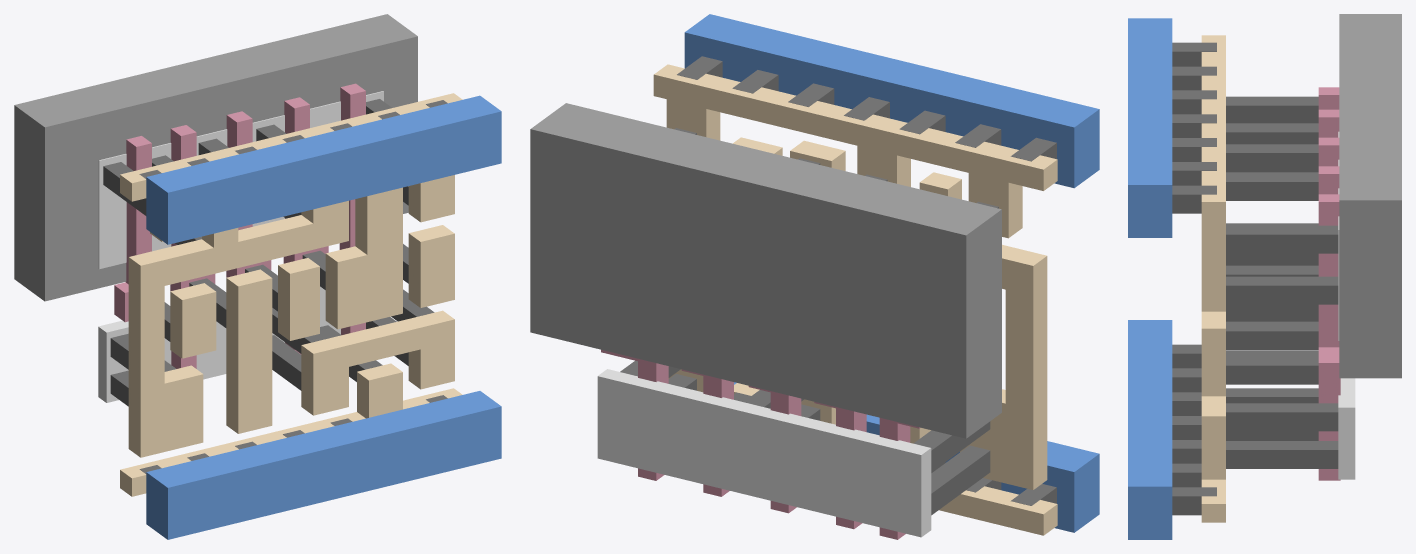
Rendered from sky130_fd_sc_hd__o2111ai_1.gds.gltf.
The picture shows the model from 3 angles, left to right: view 1: azimuth 30°, elevation 25°; view 2: azimuth 150°, elevation 25°; view 3: azimuth 270°, elevation 25°; orthographic projection. The views are drawn at different scales.
Visible parts, largest first — view 1: sky130_fd_sc_hd__o2111ai_1_li1, sky130_fd_sc_hd__o2111ai_1_met1, sky130_fd_sc_hd__o2111ai_1_nwell, sky130_fd_sc_hd__o2111ai_1_licon, sky130_fd_sc_hd__o2111ai_1_poly, sky130_fd_sc_hd__o2111ai_1_diff, sky130_fd_sc_hd__o2111ai_1_mcon; view 2: sky130_fd_sc_hd__o2111ai_1_nwell, sky130_fd_sc_hd__o2111ai_1_li1, sky130_fd_sc_hd__o2111ai_1_diff, sky130_fd_sc_hd__o2111ai_1_met1, sky130_fd_sc_hd__o2111ai_1_mcon, sky130_fd_sc_hd__o2111ai_1_licon, sky130_fd_sc_hd__o2111ai_1_poly; view 3: sky130_fd_sc_hd__o2111ai_1_licon, sky130_fd_sc_hd__o2111ai_1_nwell, sky130_fd_sc_hd__o2111ai_1_met1, sky130_fd_sc_hd__o2111ai_1_mcon, sky130_fd_sc_hd__o2111ai_1_li1, sky130_fd_sc_hd__o2111ai_1_poly, sky130_fd_sc_hd__o2111ai_1_diff.
Boxes of the visible parts, bbox=[...] form: sky130_fd_sc_hd__o2111ai_1_li1: bbox=[120, 93, 462, 496]; sky130_fd_sc_hd__o2111ai_1_met1: bbox=[146, 95, 501, 539]; sky130_fd_sc_hd__o2111ai_1_nwell: bbox=[14, 14, 417, 301]; sky130_fd_sc_hd__o2111ai_1_licon: bbox=[103, 99, 434, 406]; sky130_fd_sc_hd__o2111ai_1_poly: bbox=[114, 83, 365, 368]; sky130_fd_sc_hd__o2111ai_1_diff: bbox=[98, 91, 383, 402]; sky130_fd_sc_hd__o2111ai_1_mcon: bbox=[139, 100, 447, 473]; sky130_fd_sc_hd__o2111ai_1_nwell: bbox=[530, 103, 1001, 438]; sky130_fd_sc_hd__o2111ai_1_li1: bbox=[653, 64, 1057, 535]; sky130_fd_sc_hd__o2111ai_1_diff: bbox=[597, 369, 931, 537]; sky130_fd_sc_hd__o2111ai_1_met1: bbox=[684, 14, 1099, 532]; sky130_fd_sc_hd__o2111ai_1_mcon: bbox=[677, 56, 1056, 505]; sky130_fd_sc_hd__o2111ai_1_licon: bbox=[620, 128, 998, 515]; sky130_fd_sc_hd__o2111ai_1_poly: bbox=[601, 349, 920, 539]; sky130_fd_sc_hd__o2111ai_1_licon: bbox=[1226, 96, 1338, 468]; sky130_fd_sc_hd__o2111ai_1_nwell: bbox=[1339, 14, 1401, 378]; sky130_fd_sc_hd__o2111ai_1_met1: bbox=[1128, 18, 1172, 539]; sky130_fd_sc_hd__o2111ai_1_mcon: bbox=[1172, 42, 1216, 515]; sky130_fd_sc_hd__o2111ai_1_li1: bbox=[1201, 35, 1225, 522]; sky130_fd_sc_hd__o2111ai_1_poly: bbox=[1318, 87, 1340, 480]; sky130_fd_sc_hd__o2111ai_1_diff: bbox=[1338, 131, 1355, 479].
Size of the model in its own units: 3.6 by 3.2 by 2.24.
